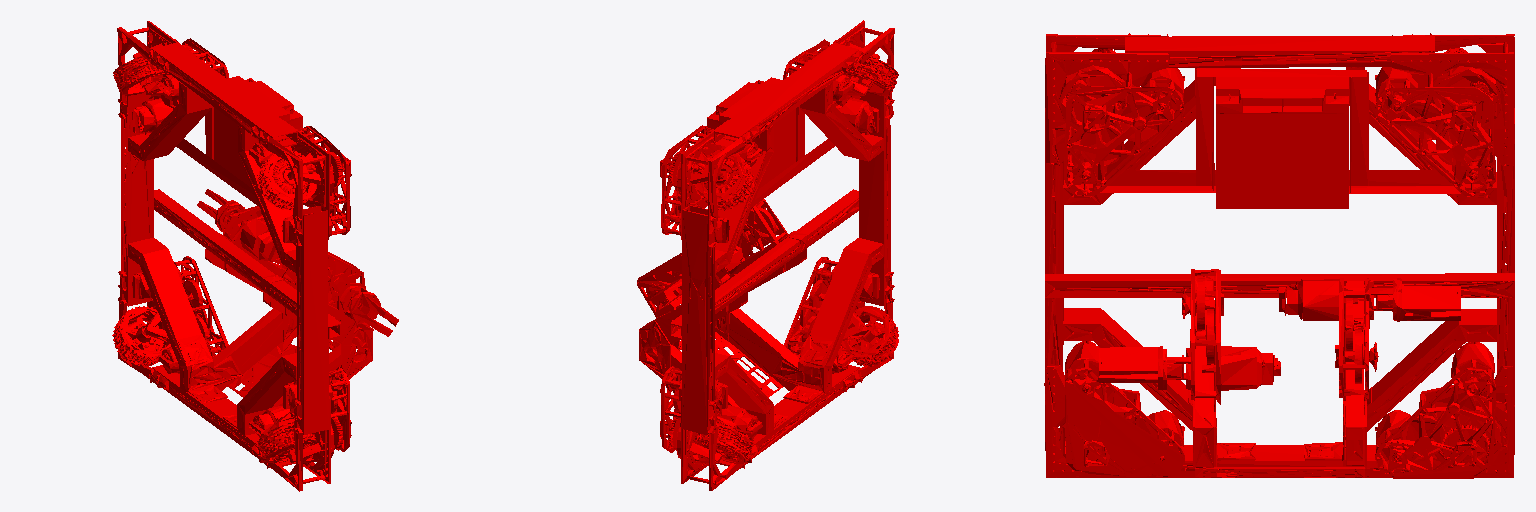
URDF robot description (camera_1):
<?xml version="1.0"?>
<robot name="camera_1" xmlns:xacro="http://www.ros.org/wiki/xacro">

	<link name="base_link_1">
		<visual>
			<origin xyz="0 0 0" rpy="0 0 0" />
			<geometry>
				<mesh filename="package://robot_2024_description/meshes/base_link.stl"/>
			</geometry>
			<material name="Red">
				<color rgba="1 0 0 0.1"/>
			</material>
      	</visual>
   
		<collision>
			<origin xyz="0 0 0" rpy="0 0 0"/>
			<geometry>
				<mesh filename="package://robot_2024_description/meshes/base_link.stl"/>
			</geometry>
		</collision>
	</link>

	<joint name="b2c1" type="fixed">
		<parent link="camera_1_plane"/>
		<child link="base_link_1"/>
		<origin xyz="0.191 -0.283 -0.299" rpy="0.0 -1.57 0.0"/>
	</joint>

	<link name="camera_1"/>
	<link name="camera_1_plane"/>

	<joint name="camera2camera" type="fixed">
		<parent link="camera_1"/>
		<child link="camera_1_plane"/>
		<origin xyz="0 0 0" rpy="0 0 3.14"/>
	</joint>

</robot>

--- What the picture shows (computed from the rendered views, not written in the file) ---
Views: 3 orthographic renders of the robot side by side, from view 1: azimuth 30°, elevation 25°; view 2: azimuth 150°, elevation 25°; view 3: azimuth 270°, elevation 25°.
Robot: camera_1 — 3 links, 2 joints (2 fixed); root link camera_1; default pose: every joint at zero.
Links seen in each view (by area): view 1: base_link_1; view 2: base_link_1; view 3: base_link_1.
Boxes of the visible links, bbox=[...] form: base_link_1: bbox=[112, 21, 398, 491]; base_link_1: bbox=[637, 20, 898, 490]; base_link_1: bbox=[1044, 33, 1514, 478].
Size in the robot's own frame: 0.2907 by 0.6099 by 0.6099 metres.
Meshes: 1 distinct files referenced, 1 mesh visuals loaded (1 binary STL).
